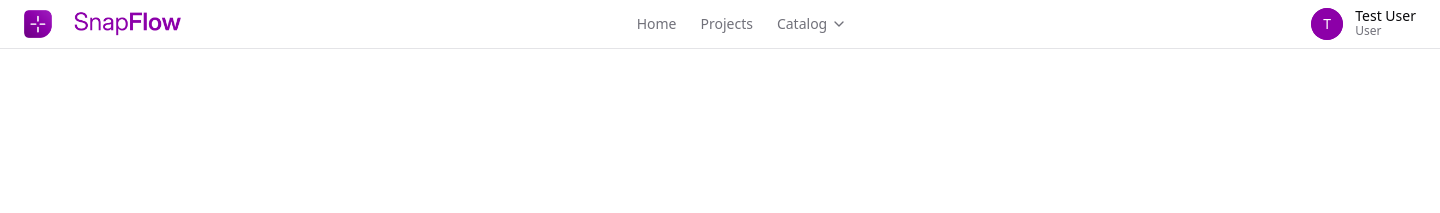
it: Header › renders profile link in dropdown for authenticated users
The image size is (1440, 213).
// Click on user dropdown
Click the text "Test User": (1386, 16) [1355,9,1416,23]
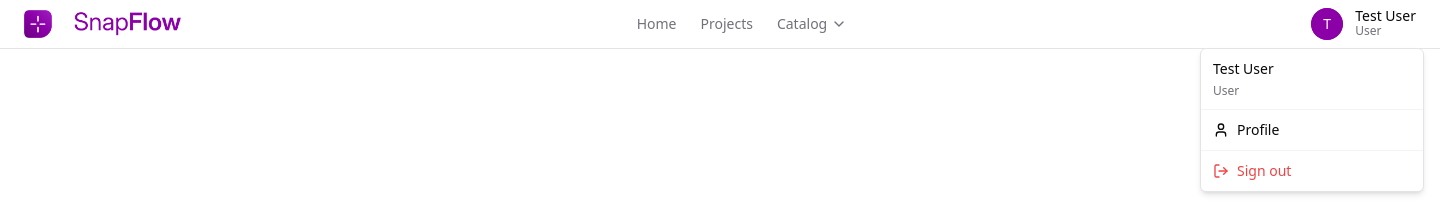
expect the menu item "Profile" is shown: met, box [1213,120,1279,139]
